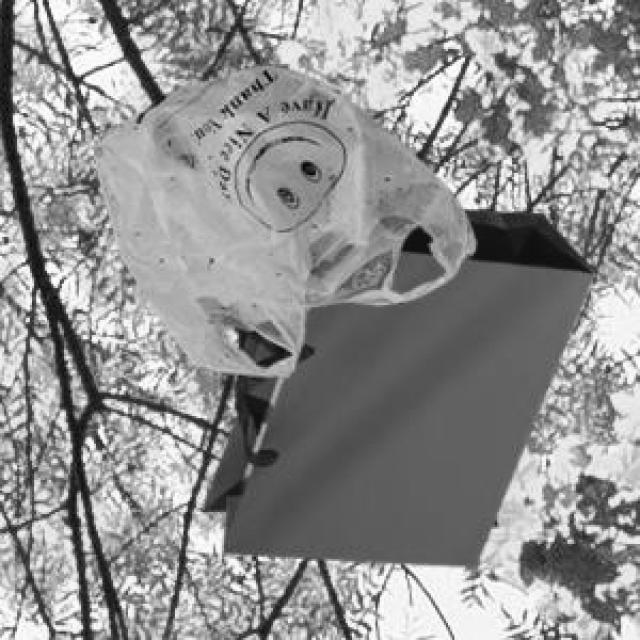paper: (196, 207, 589, 561)
